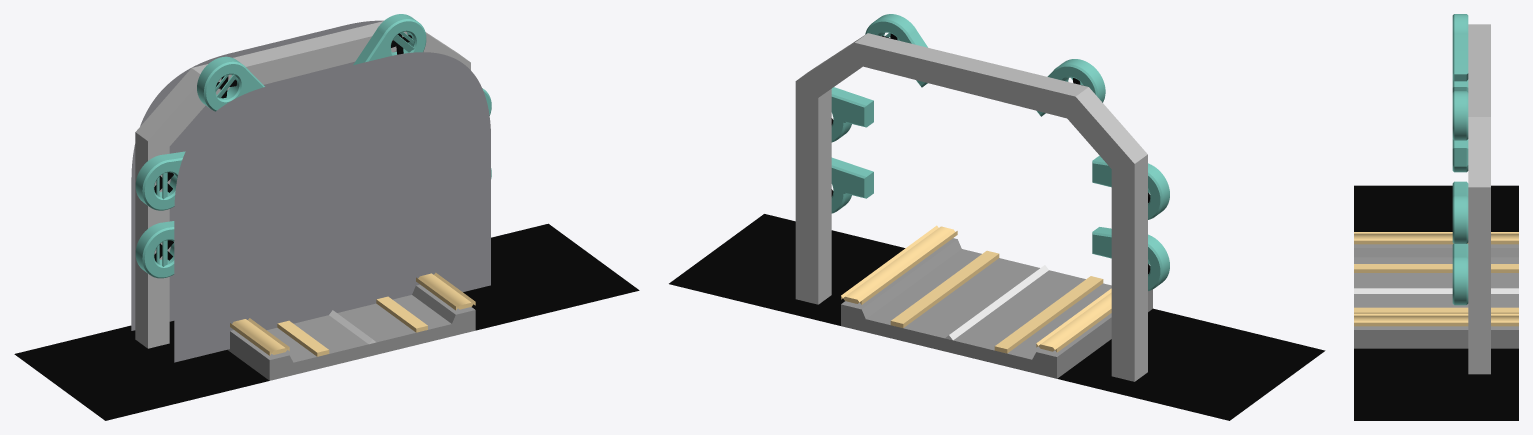
Rendered from station__blower2.glb.
3 views of the same model, side by side, from view 1: azimuth 30°, elevation 25°; view 2: azimuth 150°, elevation 25°; view 3: azimuth 270°, elevation 25° (orthographic). The views are drawn at different scales.
Parts seen in each view (by area): view 1: lottie_front, _basefloor, Boolean (×5), road, lottie_back, road__top--right, road__top--left, road__rail--left, road__rail--right; view 2: Boolean (×7), _basefloor, road, road__top--right, road__rail--left, road__rail--right, road__top--left, road__rail--middle; view 3: _basefloor, Boolean (×7), road, road__top--right, road__top--left, road__rail--left, road__rail--right, road__rail--middle.
Part boxes in pixels (x1,y1,x2,y2): lottie_front: (174, 52, 490, 362); _basefloor: (14, 223, 639, 420); Boolean (×5): (135, 14, 470, 348); road: (227, 284, 475, 380); lottie_back: (131, 20, 396, 330); road__top--right: (416, 272, 475, 310); road__top--left: (230, 318, 289, 355); road__rail--left: (277, 320, 329, 356); road__rail--right: (376, 296, 427, 332); Boolean (×7): (795, 14, 1169, 381); _basefloor: (669, 214, 1325, 420); road: (841, 238, 1152, 378); road__top--right: (841, 225, 957, 304); road__rail--left: (994, 276, 1103, 353); road__rail--right: (890, 250, 999, 327); road__top--left: (1036, 288, 1111, 352); road__rail--middle: (945, 265, 1048, 340); _basefloor: (1354, 185, 1518, 420); Boolean (×7): (1452, 14, 1490, 374); road: (1354, 244, 1518, 348); road__top--right: (1354, 313, 1518, 326); road__top--left: (1354, 232, 1518, 244); road__rail--left: (1354, 264, 1518, 272); road__rail--right: (1354, 307, 1518, 313); road__rail--middle: (1354, 288, 1518, 293).
Size of the model in its own units: 10.8 by 5.3 by 3.2.
